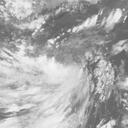cyclone: (35, 51, 97, 103)
